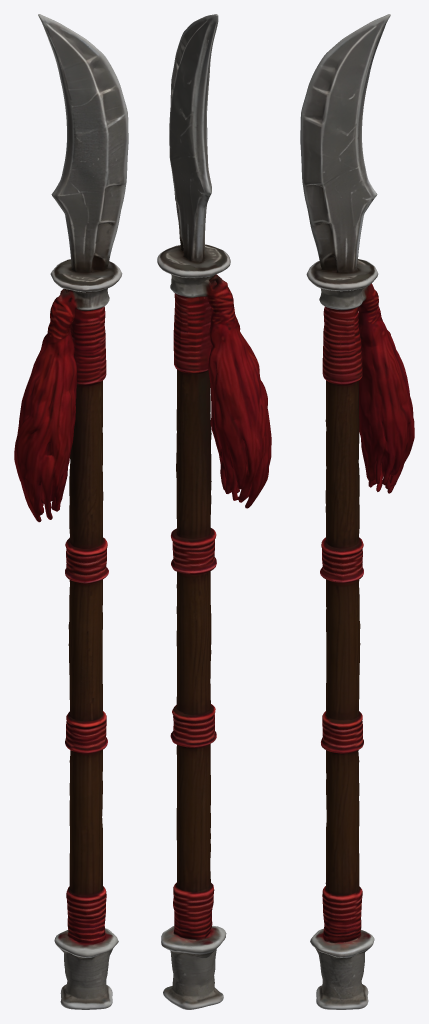
The model's file is look-weapon2-t1-tripo.glb.
The picture shows the model from 3 angles, left to right: view 1: azimuth 90°, elevation 25°; view 2: azimuth 210°, elevation 25°; view 3: azimuth 270°, elevation 25°; orthographic projection.
Visible parts, largest first — view 1: tripo_node_74e77d4b-b74f-4200-a152-baff8aff8c0f; view 2: tripo_node_74e77d4b-b74f-4200-a152-baff8aff8c0f; view 3: tripo_node_74e77d4b-b74f-4200-a152-baff8aff8c0f.
Boxes of the visible parts, box(x1,y1,x2,y2) form: tripo_node_74e77d4b-b74f-4200-a152-baff8aff8c0f: box(14, 14, 128, 1009); tripo_node_74e77d4b-b74f-4200-a152-baff8aff8c0f: box(157, 14, 271, 1009); tripo_node_74e77d4b-b74f-4200-a152-baff8aff8c0f: box(300, 14, 414, 1009).
Bounding box in the file's own units: 0.09 × 1 × 0.1052.
Materials: 1 (1 with a texture image).
